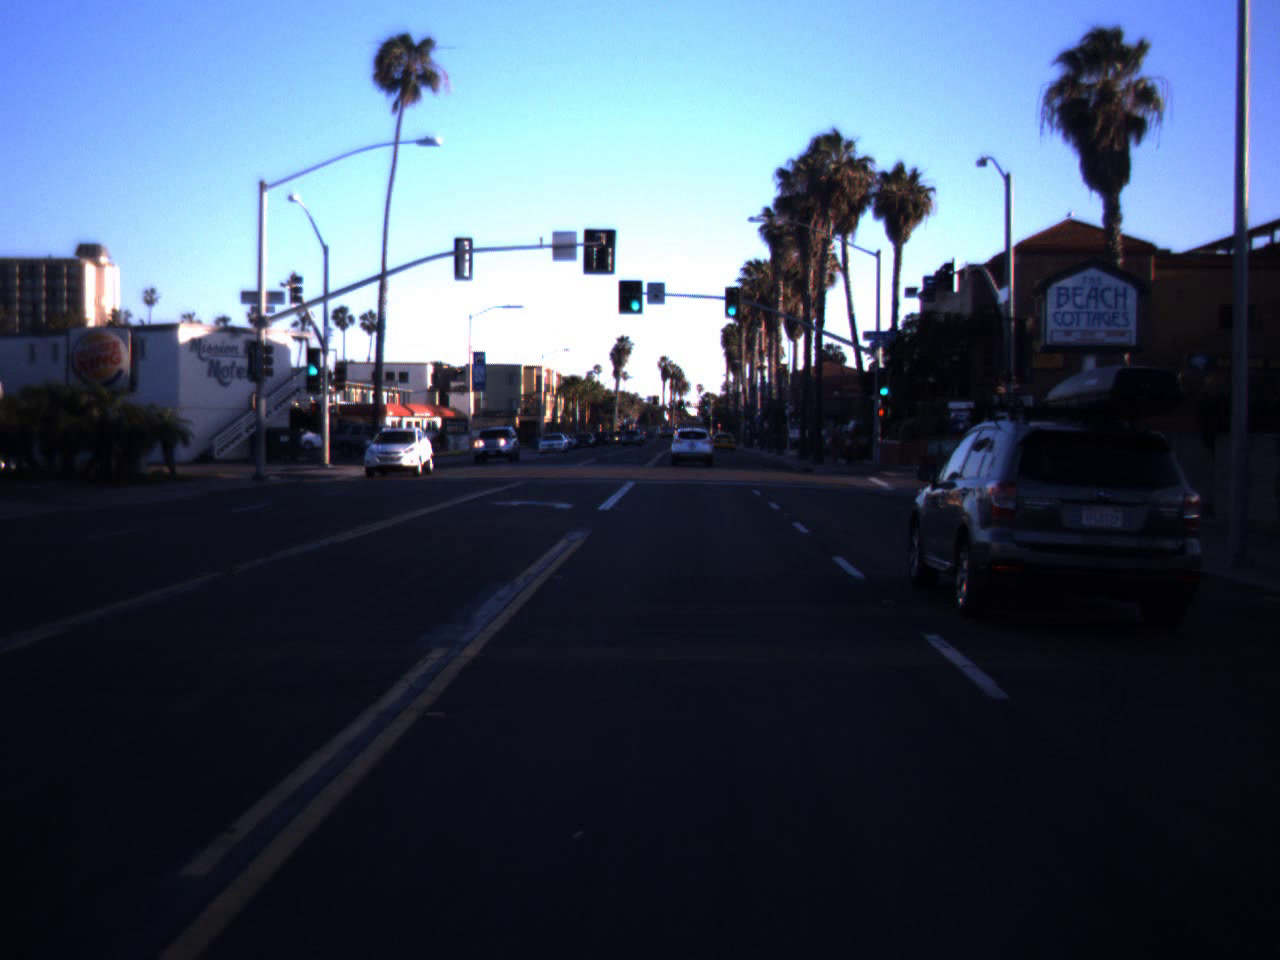go: (625, 274, 646, 314), (303, 342, 324, 377), (721, 291, 742, 316), (875, 371, 893, 396)
